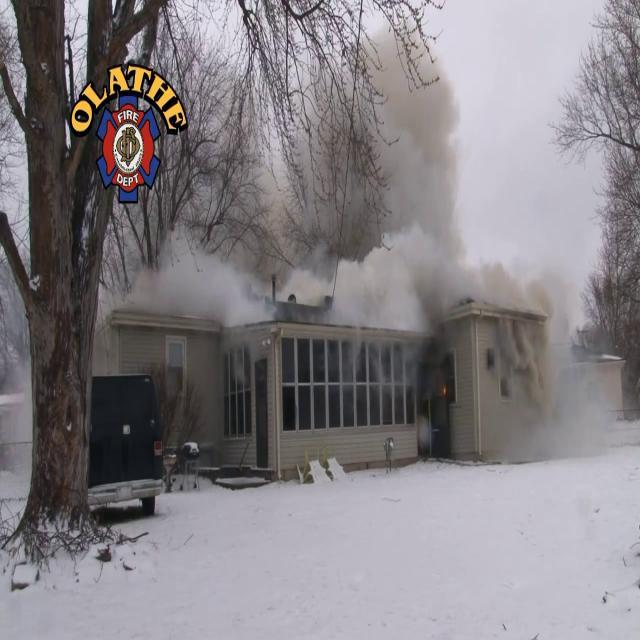Smoke: (182, 0, 480, 341)
